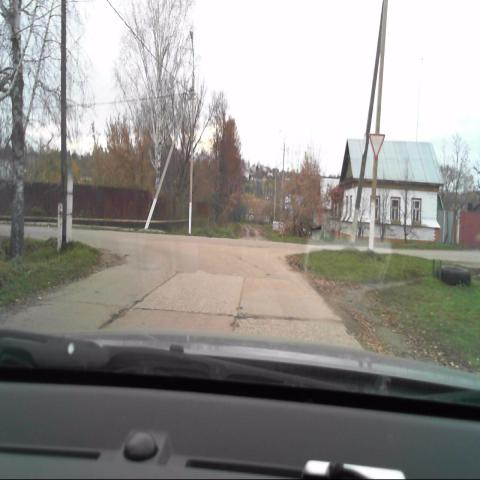2_4: (368, 132, 385, 160)
